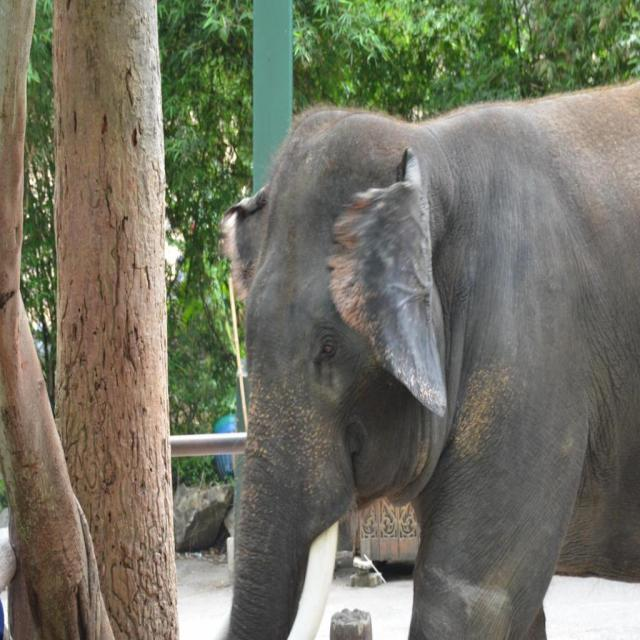Elephant: (215, 78, 640, 640)
